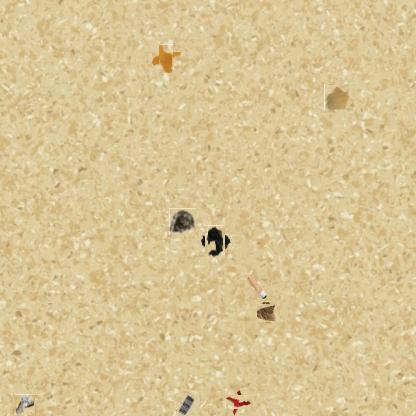dirty: (169, 208, 196, 235), (202, 229, 229, 255), (244, 274, 270, 300), (13, 394, 35, 415), (228, 392, 248, 412), (176, 394, 194, 416), (258, 303, 276, 322)
liquid: (324, 84, 355, 110), (156, 48, 177, 70)
